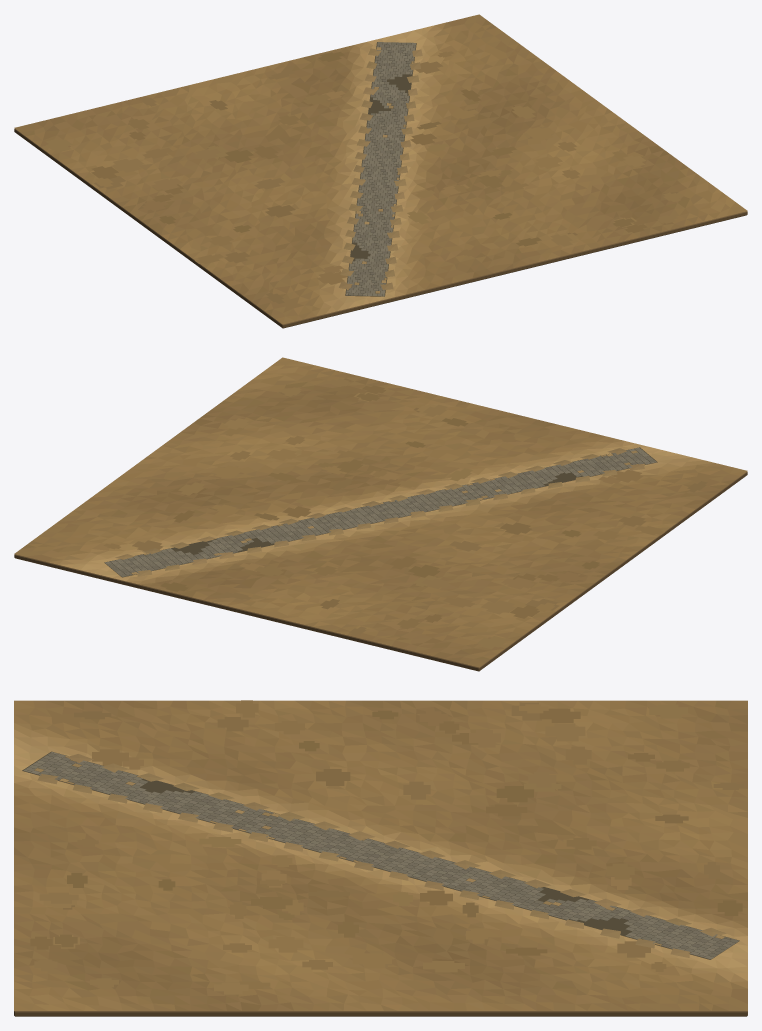
File: terrain.glb
3 views of the same model, one above another, from view 1: azimuth 30°, elevation 25°; view 2: azimuth 150°, elevation 25°; view 3: azimuth 270°, elevation 25° (orthographic). The views are drawn at different scales.
Parts seen in each view (by area): view 1: Earth, Stone; view 2: Earth, Stone; view 3: Earth, Stone.
Part boxes in pixels (x1=…): Earth: x1=14, y1=14, x2=747, y2=324; Stone: x1=14, y1=42, x2=747, y2=328; Earth: x1=14, y1=357, x2=747, y2=667; Stone: x1=14, y1=447, x2=747, y2=671; Earth: x1=14, y1=700, x2=747, y2=1010; Stone: x1=14, y1=751, x2=747, y2=1016.
Size of the model in its own units: 84.1 by 0.842 by 84.
